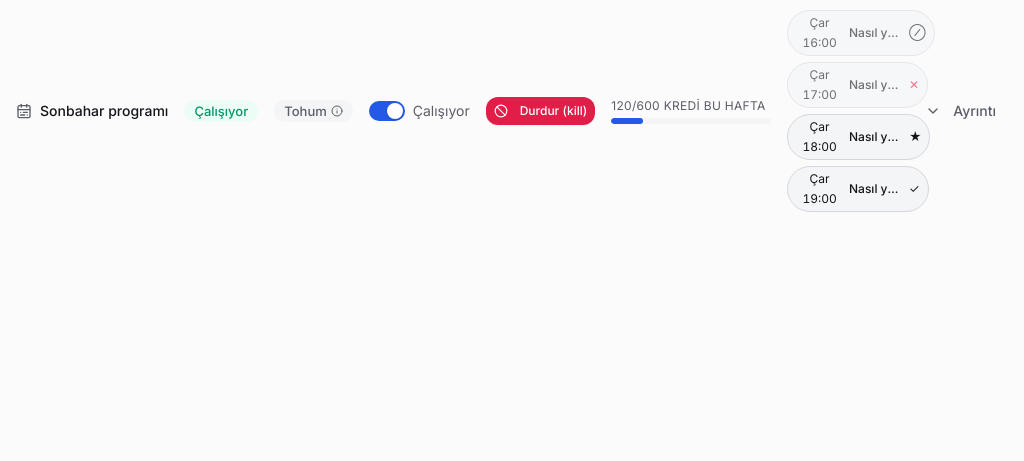
Test: ProgrammePanel — slot editor › the frozen sentence names what the slot IS: skipped, failed, or published with its reward
This screenshot has width=1024, height=461.
What coordinates should you click on to do the following:
click the button with test id "programme-chip"
I would click on:
 (861, 33)
Its box is x1=787 y1=10 x2=935 y2=56.
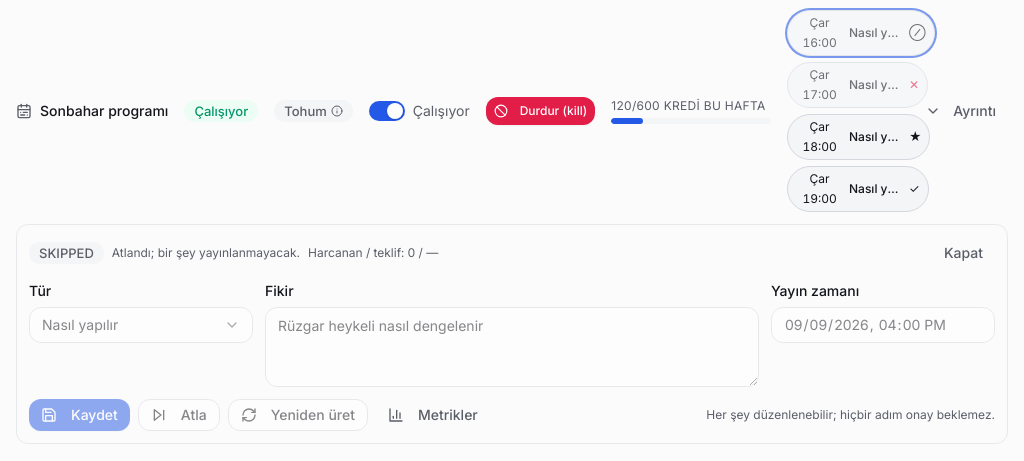
Expected: the text with test id "programme-slot-window" does not show "olduğu gibi yayınlanır", x1=112 y1=245 x2=300 y2=261
Now the text with test id "programme-slot-window" reads "Atlandı; bir şey yayınlanmayacak.", box x1=112 y1=245 x2=300 y2=260
What coordinates should you click on to do the following:
click the button with test id "programme-chip"
I would click on:
 (858, 85)
Its box is x1=787 y1=62 x2=928 y2=108.
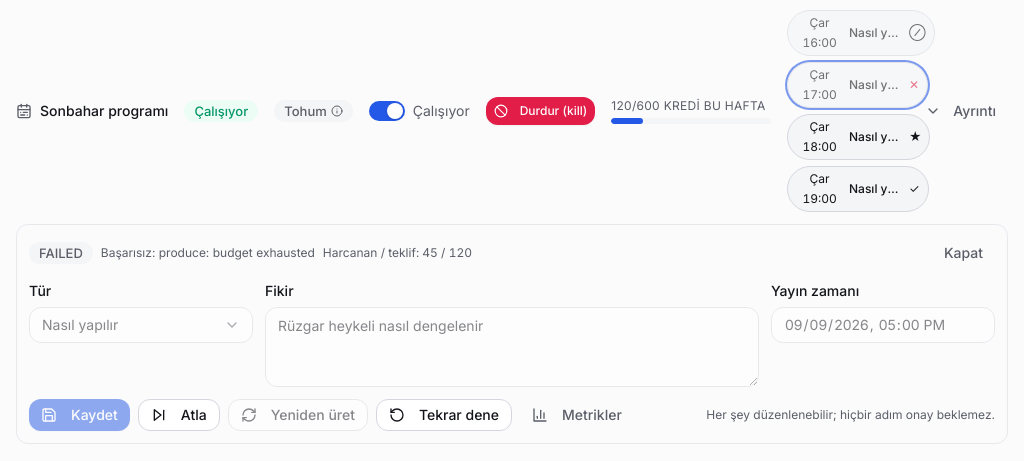
Now the text with test id "programme-slot-window" reads "Başarısız: produce: budget exhausted", box x1=101 y1=245 x2=315 y2=260
Now the text with test id "programme-slot-credits" reads "Harcanan / teklif: 45 / 120", box x1=323 y1=245 x2=472 y2=261
What coordinates should you click on to do the following:
click the button with test id "programme-chip"
I would click on:
 (859, 137)
Its box is x1=787 y1=114 x2=930 y2=160.
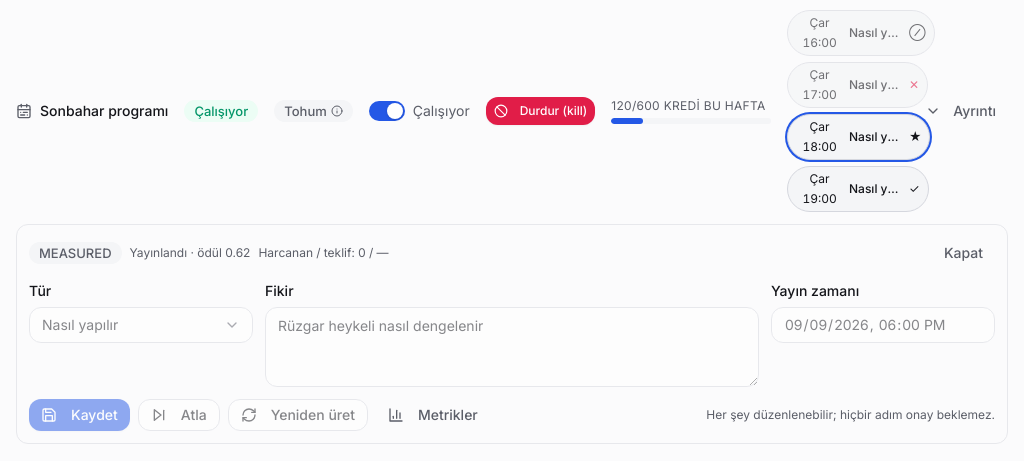
Now the text with test id "programme-slot-window" reads "Yayınlandı · ödül 0.62", box x1=130 y1=245 x2=250 y2=260
What coordinates should you click on to do the following:
click the button with test id "programme-chip"
I would click on:
 (858, 189)
Its box is x1=787 y1=166 x2=928 y2=212.
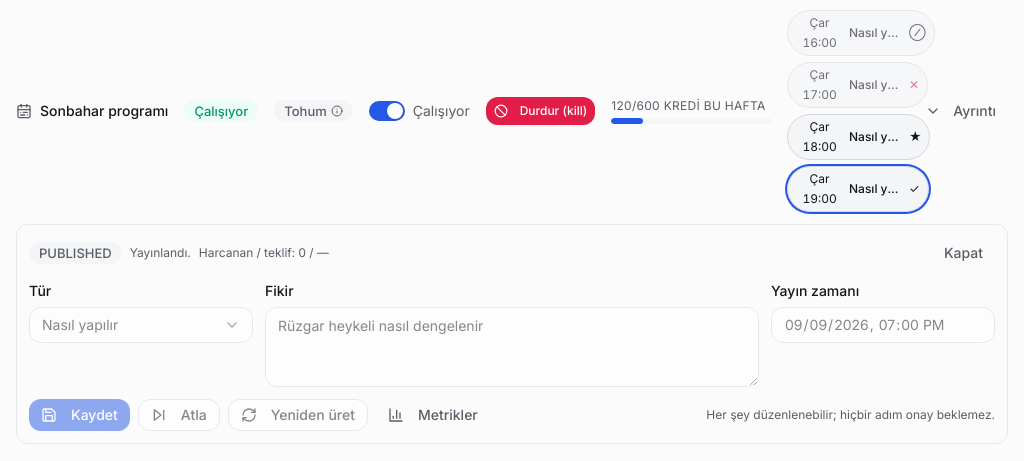
Now the text with test id "programme-slot-window" reads "Yayınlandı.", box x1=130 y1=245 x2=191 y2=260
